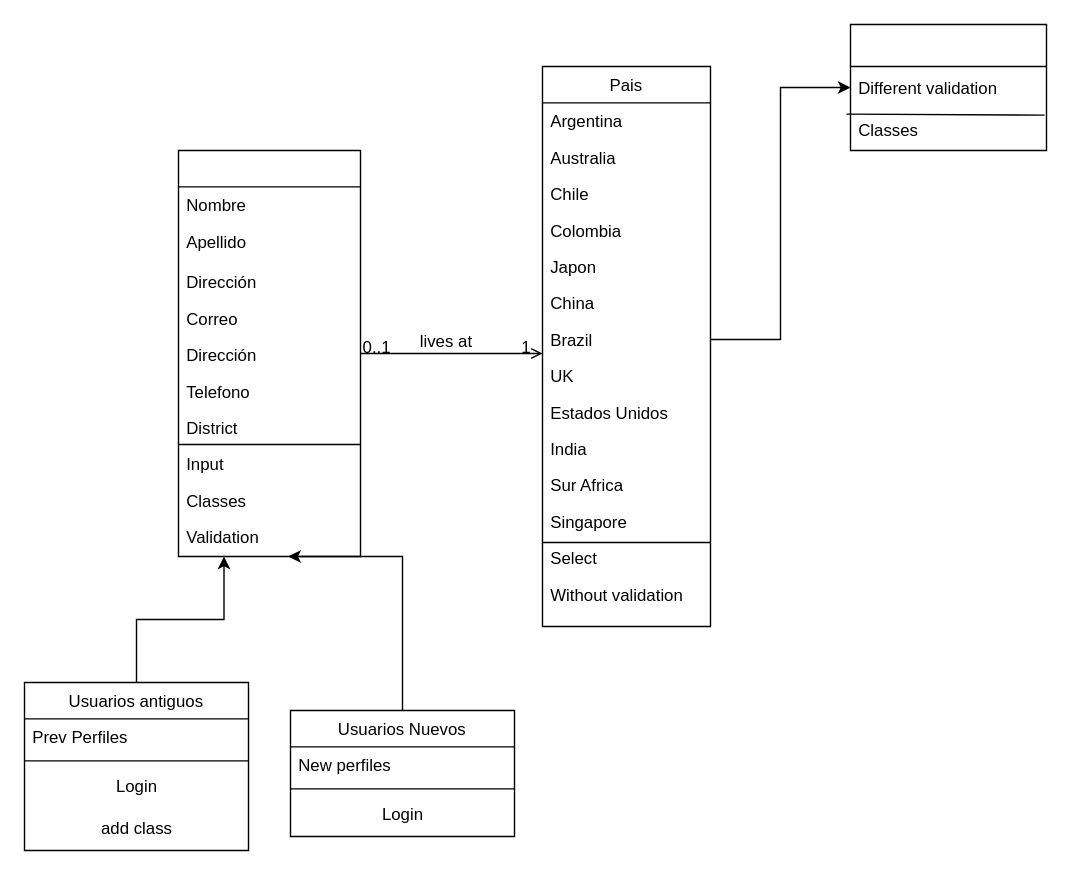
This 1071x875 diagram has some shape labels left out. Each missing label, with the box of its shape:
Each country: (849, 23, 1046, 150)
Validaciones: (177, 149, 360, 556)
